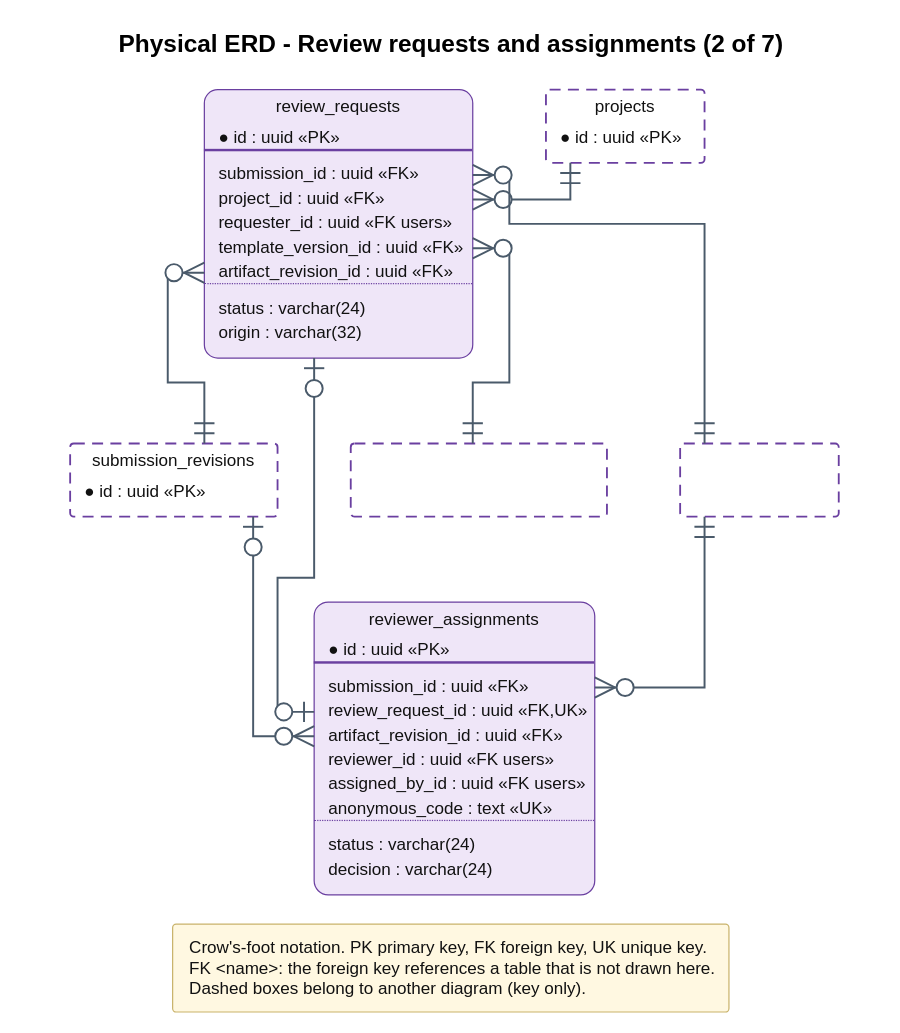
Image size: 900x1033. Some labels were removed from this diagram. Here are the shapes that lost their labels. From the top down, the box of each, then its label:
(349, 442, 607, 517): review_template_versions ● id : uuid «PK»
(679, 442, 839, 517): submissions ● id : uuid «PK»
